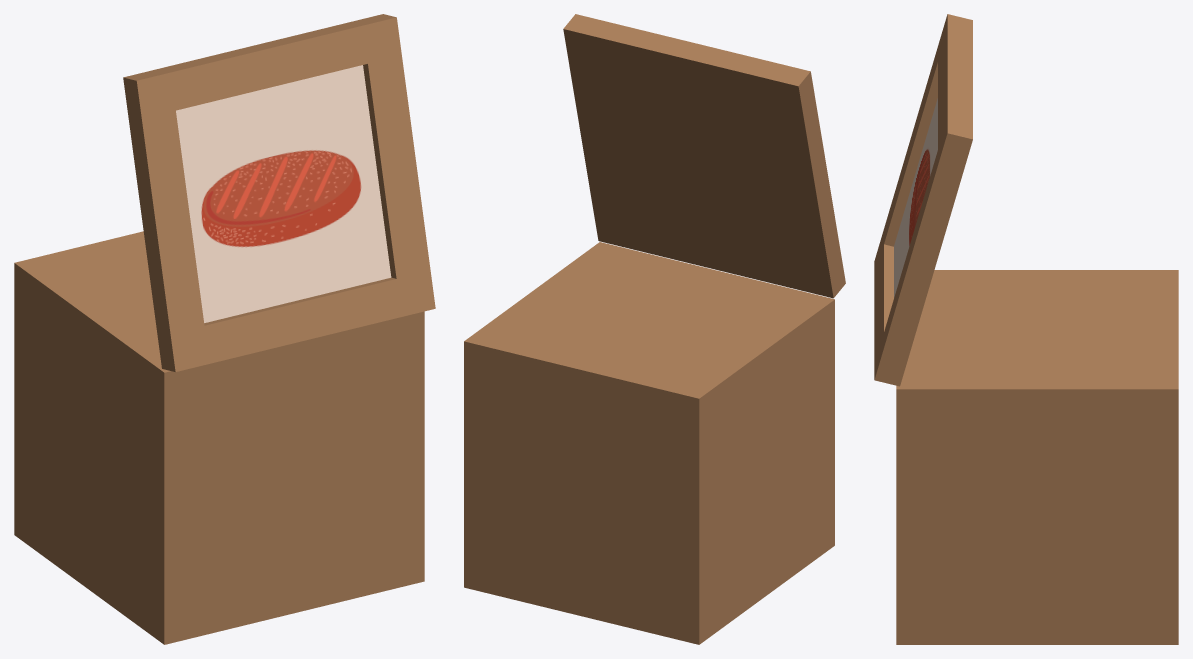
The model's file is food_burger animation_opening.fbx.
The picture shows the model from 3 angles, left to right: view 1: azimuth 30°, elevation 25°; view 2: azimuth 150°, elevation 25°; view 3: azimuth 270°, elevation 25°; orthographic projection. The views are drawn at different scales.
Visible parts, largest first — view 1: Cube, Cube.001; view 2: Cube, Cube.001; view 3: Cube, Cube.001.
Part boxes in pixels (x1,y1,x2,y2): Cube: (14,231,424,644); Cube.001: (123,14,435,371); Cube: (464,242,834,644); Cube.001: (563,14,845,298); Cube: (896,270,1178,644); Cube.001: (874,14,972,386).
Size of the model in its own units: 200 by 400 by 215.
